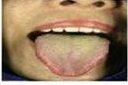huangtaishe: (35, 34, 110, 77)
